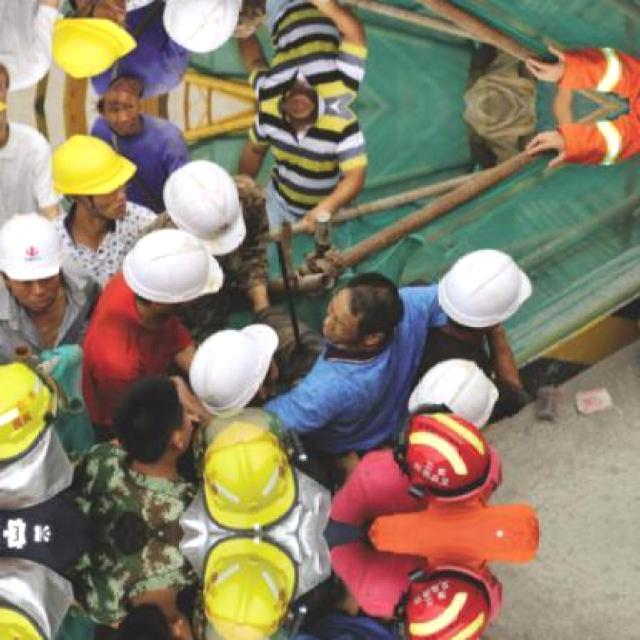helmet: (0, 211, 113, 360), (51, 130, 158, 281), (193, 419, 310, 538), (429, 225, 542, 335), (186, 312, 284, 424), (203, 540, 297, 640), (157, 157, 246, 261), (122, 230, 226, 304), (404, 412, 488, 495), (49, 131, 138, 202), (406, 356, 496, 426), (0, 362, 61, 464), (48, 17, 138, 80), (403, 578, 490, 640), (0, 214, 68, 283), (163, 0, 245, 51), (0, 604, 51, 640)
no_helmet: (119, 380, 182, 453), (347, 270, 405, 328), (116, 613, 180, 640), (92, 94, 140, 116)
no_mask: (320, 322, 343, 348), (176, 423, 194, 449), (100, 0, 129, 14)
no_vest: (323, 323, 422, 453), (83, 308, 188, 414), (77, 543, 188, 616), (82, 466, 180, 545), (92, 8, 182, 90), (269, 118, 346, 210), (0, 287, 93, 358), (356, 548, 444, 616), (99, 122, 172, 202), (273, 3, 339, 84), (65, 217, 139, 287), (359, 458, 432, 525), (422, 306, 479, 377), (216, 206, 258, 297), (0, 131, 51, 205), (0, 0, 52, 67)
person: (269, 260, 455, 460), (84, 228, 226, 423), (146, 156, 270, 332), (72, 379, 200, 541), (406, 248, 540, 399), (328, 414, 507, 522), (328, 543, 502, 640), (238, 112, 368, 233), (243, 0, 369, 111), (76, 538, 203, 640), (92, 82, 187, 206), (186, 310, 284, 424), (86, 0, 186, 95), (49, 0, 148, 75), (528, 38, 640, 104), (528, 110, 640, 176), (0, 115, 60, 216), (0, 3, 67, 92)
